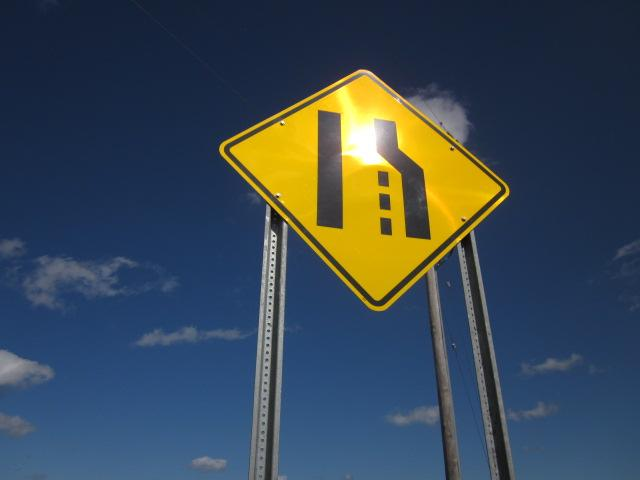warning: (212, 56, 514, 318)
